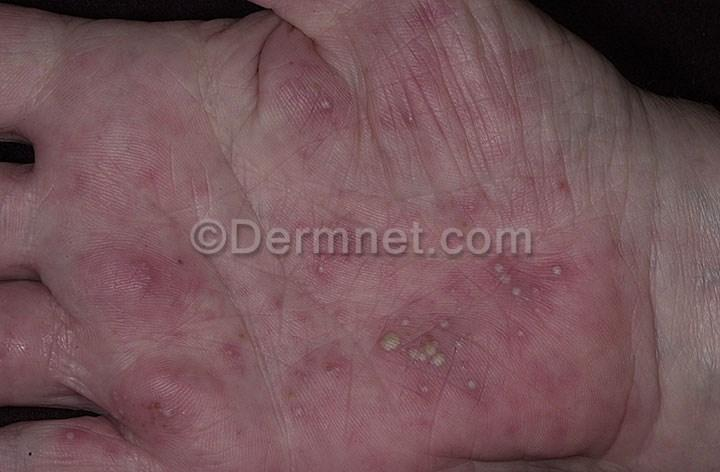Eczema: (375, 332, 481, 399), (115, 262, 193, 312), (490, 260, 568, 309), (129, 378, 190, 436), (57, 424, 88, 457), (312, 96, 345, 123)
